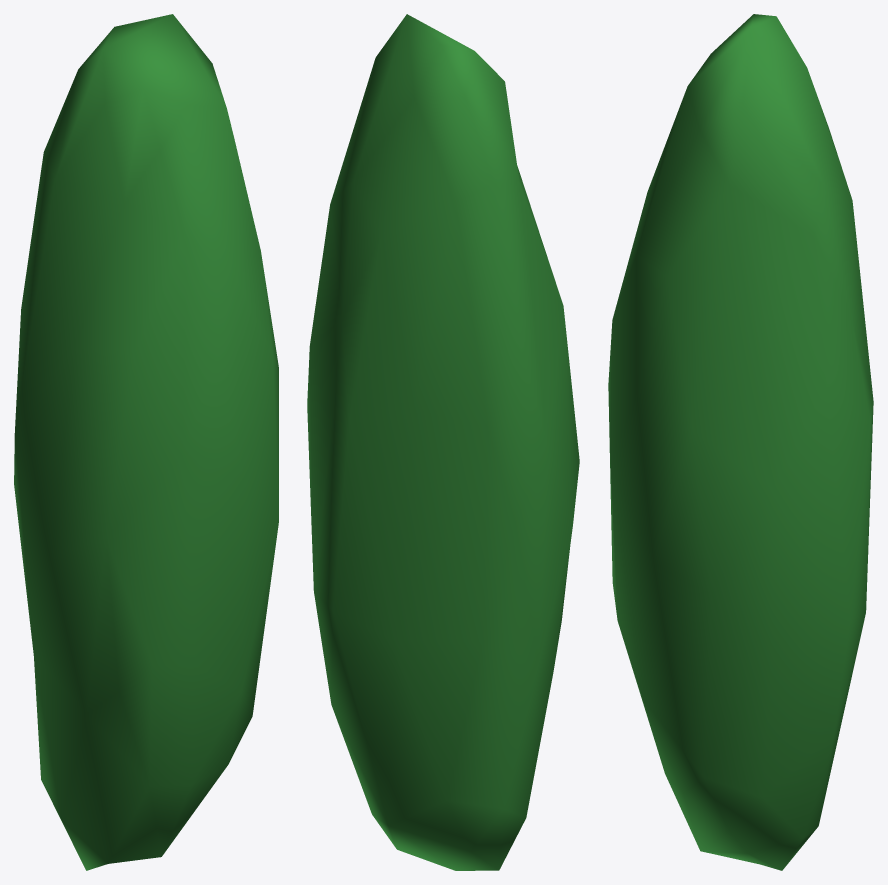
File: plant_002.fbx
The picture shows the model from 3 angles, left to right: view 1: azimuth 30°, elevation 25°; view 2: azimuth 150°, elevation 25°; view 3: azimuth 270°, elevation 25°; orthographic projection. The views are drawn at different scales.
Visible parts, largest first — view 1: plant_002; view 2: plant_002; view 3: plant_002.
Boxes of the visible parts, x1,y1,x2,y2 form: plant_002: [14, 14, 278, 870]; plant_002: [307, 14, 579, 870]; plant_002: [608, 14, 873, 870].
Bounding box in the file's own units: 209 × 195 × 701.
